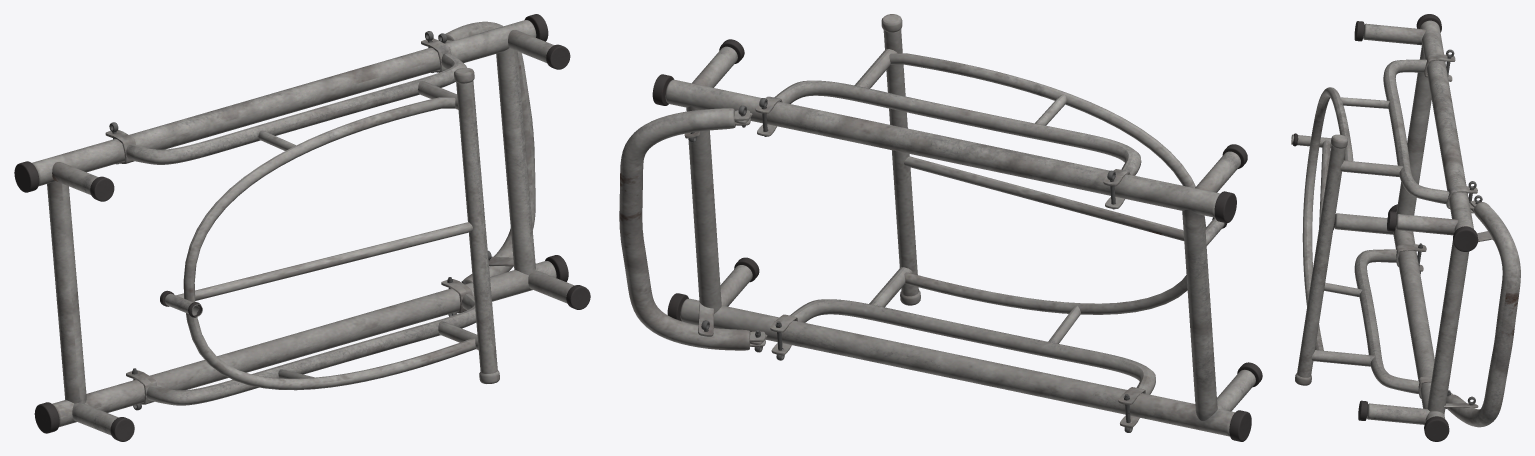
Rendered from Gurney_MeshVariant3.fbx.
The picture shows the model from 3 angles, left to right: view 1: azimuth 30°, elevation 25°; view 2: azimuth 150°, elevation 25°; view 3: azimuth 270°, elevation 25°; orthographic projection. The views are drawn at different scales.
Parts seen in each view (by area): view 1: Gurney_Variation3; view 2: Gurney_Variation3; view 3: Gurney_Variation3.
Boxes of the visible parts, x1=… form: Gurney_Variation3: x1=14, y1=14, x2=590, y2=441; Gurney_Variation3: x1=619, y1=14, x2=1262, y2=441; Gurney_Variation3: x1=1291, y1=14, x2=1520, y2=441.
Size of the model in its own units: 233 by 123 by 101.
